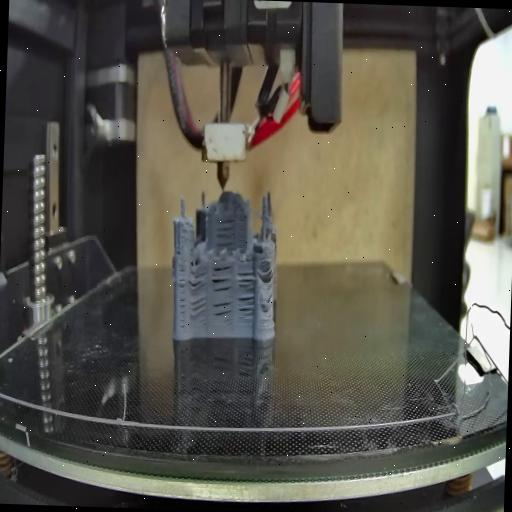cracks: (236, 266, 256, 322), (210, 262, 235, 293), (175, 266, 187, 330), (214, 216, 238, 248), (212, 298, 234, 326), (187, 296, 207, 320), (187, 270, 206, 290), (260, 262, 274, 284), (260, 292, 272, 316), (175, 243, 181, 259)
